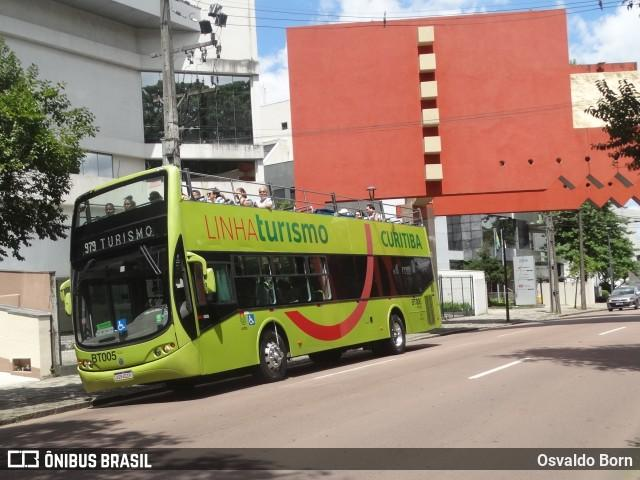TURISMO: (95, 221, 156, 254)
